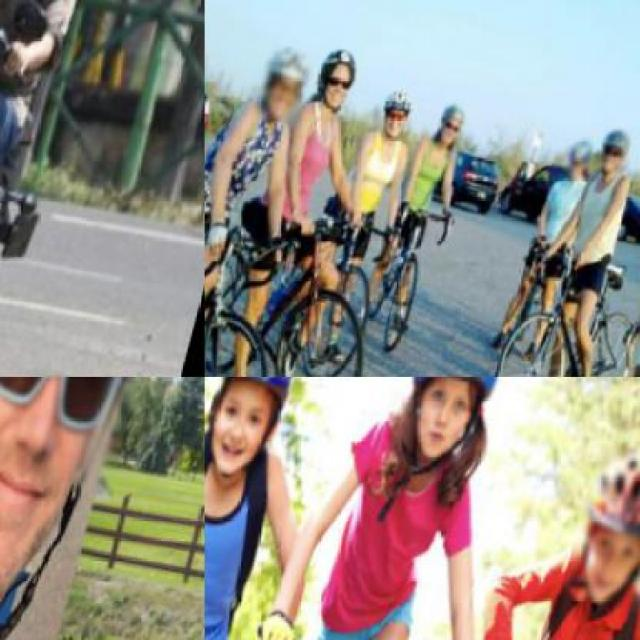With Helmet: (0, 376, 198, 495), (563, 438, 639, 612), (205, 377, 309, 486), (386, 377, 519, 461), (253, 41, 321, 127), (307, 38, 368, 116), (428, 87, 481, 153), (592, 118, 640, 176), (374, 81, 420, 141), (563, 132, 600, 180)
